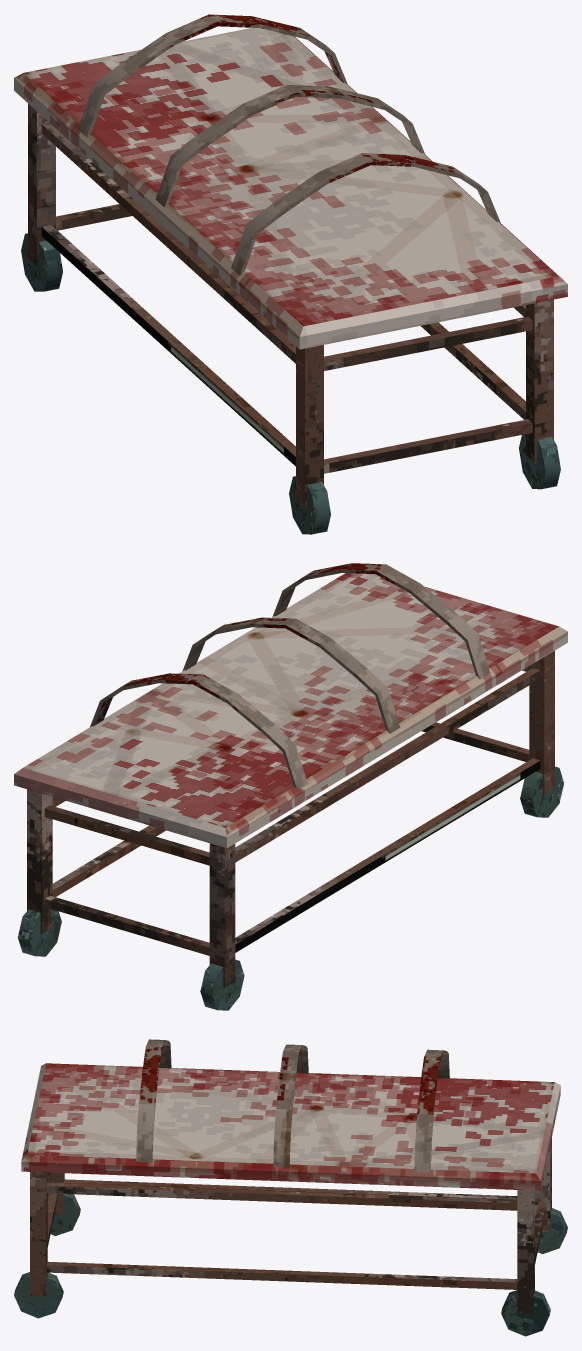
The model's file is PrisonBed.FBX.
The picture shows the model from 3 angles, top to bottom: view 1: azimuth 30°, elevation 25°; view 2: azimuth 150°, elevation 25°; view 3: azimuth 270°, elevation 25°; orthographic projection. The views are drawn at different scales.
Visible parts, largest first — view 1: Box010; view 2: Box010; view 3: Box010.
Part boxes in pixels (x1,y1,x2,y2): Box010: (14, 14, 567, 534); Box010: (14, 563, 567, 1010); Box010: (14, 1039, 567, 1336).
Size of the model in its own units: 16.74 by 15.66 by 33.99.
Materials: 1 (1 with a texture image).
